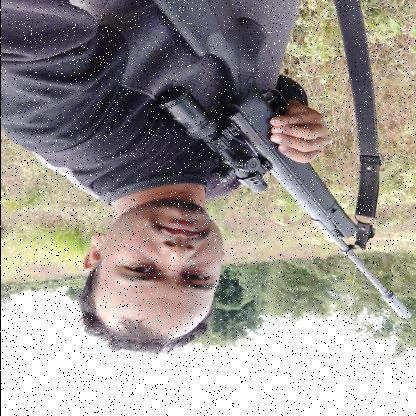rifle: (149, 0, 413, 321)
